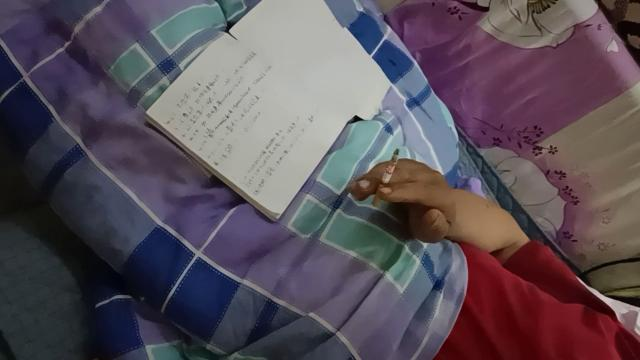Cigarette: (372, 149, 400, 207)
